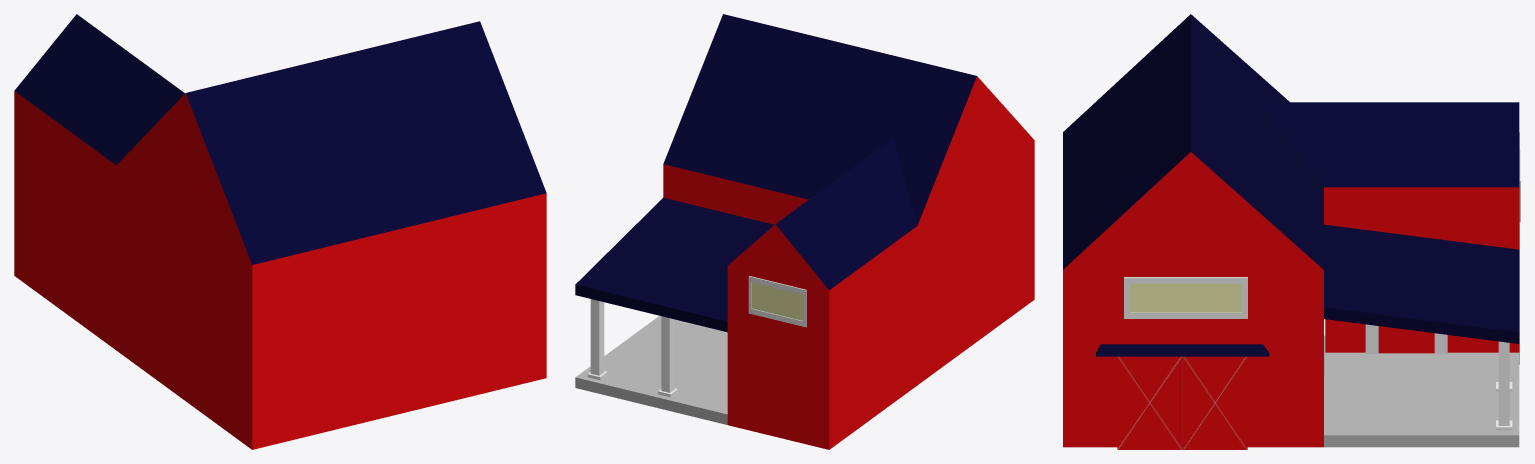
File: farmhouse_embedded.fbx
The picture shows the model from 3 angles, left to right: view 1: azimuth 30°, elevation 25°; view 2: azimuth 150°, elevation 25°; view 3: azimuth 270°, elevation 25°; orthographic projection. The views are drawn at different scales.
Visible parts, largest first — view 1: barnbase, barnroof, entrancebase, entranceroof; view 2: barnroof, entrancebase, barnbase, porch_roof, entranceroof, porch, pillar (×2), pCube5; view 3: barnroof, barnbase, entranceroof, porch_roof, porch, entrancebase, barn_door2, barn_door1, pCube5, barn_slider, door_base, pillar (+2 smaller).
Boxes of the visible parts, <box> form: barnbase: <box>116,166,546,449</box>; barnroof: <box>116,21,546,264</box>; entrancebase: <box>14,91,116,349</box>; entranceroof: <box>14,14,184,165</box>; barnroof: <box>663,14,1034,225</box>; entrancebase: <box>727,226,917,449</box>; barnbase: <box>663,140,1034,385</box>; porch_roof: <box>575,197,774,332</box>; entranceroof: <box>728,138,916,290</box>; porch: <box>575,315,727,424</box>; pillar (×2): <box>590,299,674,392</box>; pCube5: <box>751,276,802,320</box>; barnroof: <box>1063,14,1323,269</box>; barnbase: <box>1063,270,1323,447</box>; entranceroof: <box>1257,102,1519,187</box>; porch_roof: <box>1324,224,1519,343</box>; porch: <box>1324,352,1519,447</box>; entrancebase: <box>1324,132,1519,364</box>; barn_door2: <box>1182,356,1247,449</box>; barn_door1: <box>1117,356,1182,449</box>; pCube5: <box>1128,277,1245,312</box>; barn_slider: <box>1096,344,1269,356</box>; door_base: <box>1378,326,1434,353</box>; pillar: <box>1498,341,1509,425</box>.
Size of the model in its own units: 25.7 by 25 by 35.11.
1 material, 1 textured.
